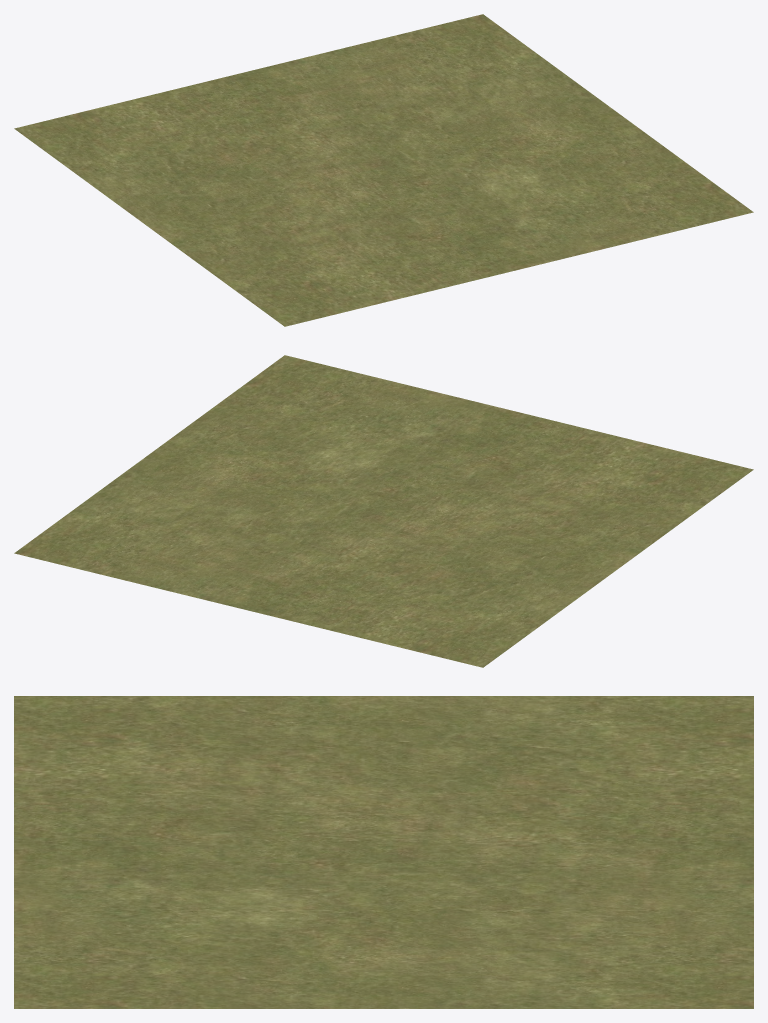
3 views of the same model, one above another, from view 1: azimuth 30°, elevation 25°; view 2: azimuth 150°, elevation 25°; view 3: azimuth 270°, elevation 25° (orthographic). The views are drawn at different scales.
Visible parts, largest first — view 1: terrain_o; view 2: terrain_o; view 3: terrain_o.
Boxes of the visible parts, <box> form: terrain_o: <box>14,14,753,326</box>; terrain_o: <box>14,355,753,667</box>; terrain_o: <box>14,696,753,1008</box>.
Size of the model in its own units: 299 by 0 by 299.
Materials: 1 (1 with a texture image).
